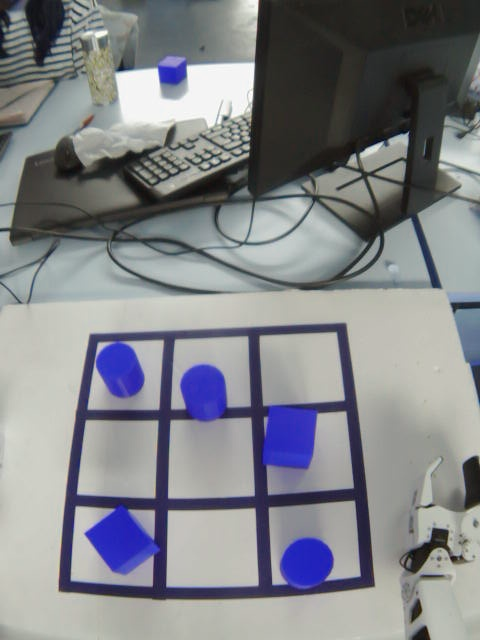cube: (77, 501, 170, 580), (252, 395, 325, 475)
cylinder: (173, 361, 240, 428), (275, 530, 343, 595), (90, 338, 154, 403)
empty: (159, 501, 266, 597), (162, 411, 262, 510), (72, 412, 168, 507), (252, 328, 352, 412)
